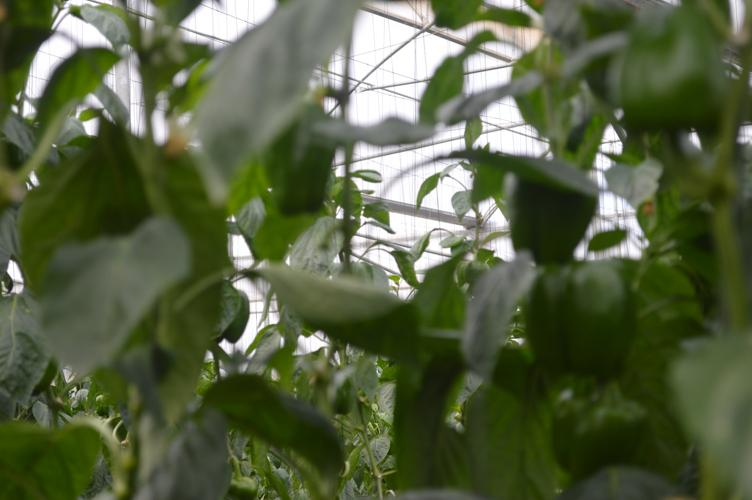BellPepper: (598, 12, 730, 136), (516, 261, 632, 376), (541, 382, 646, 476), (251, 105, 334, 210), (498, 176, 591, 260)
